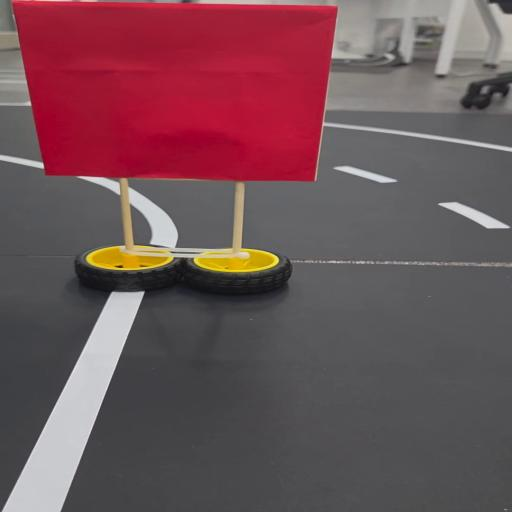Sign_A: (22, 1, 335, 311)
